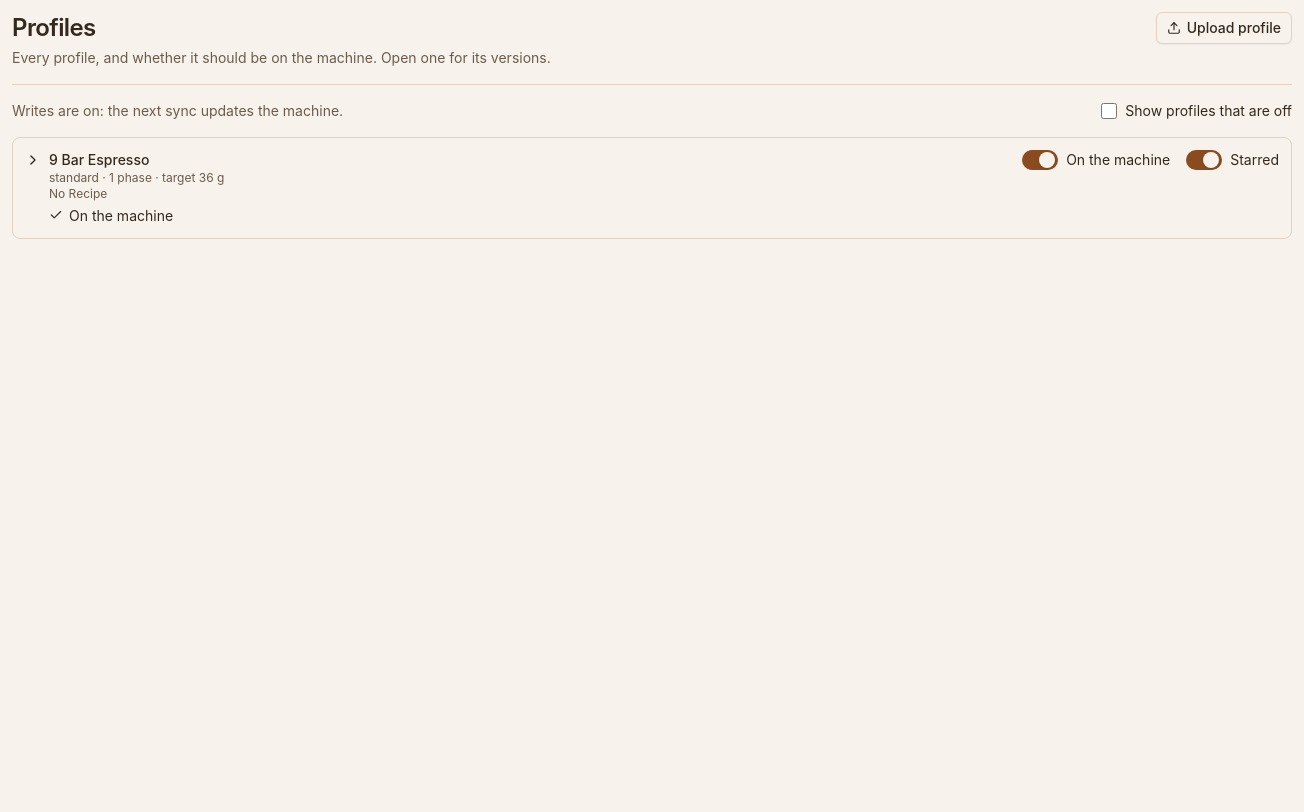
it: Rename, in an open profile › shows the server's sentence under the field and keeps what was typed
This screenshot has width=1304, height=812.
Click the button with test id "profile-toggle" at (99, 160), box [25,150,1006,226]
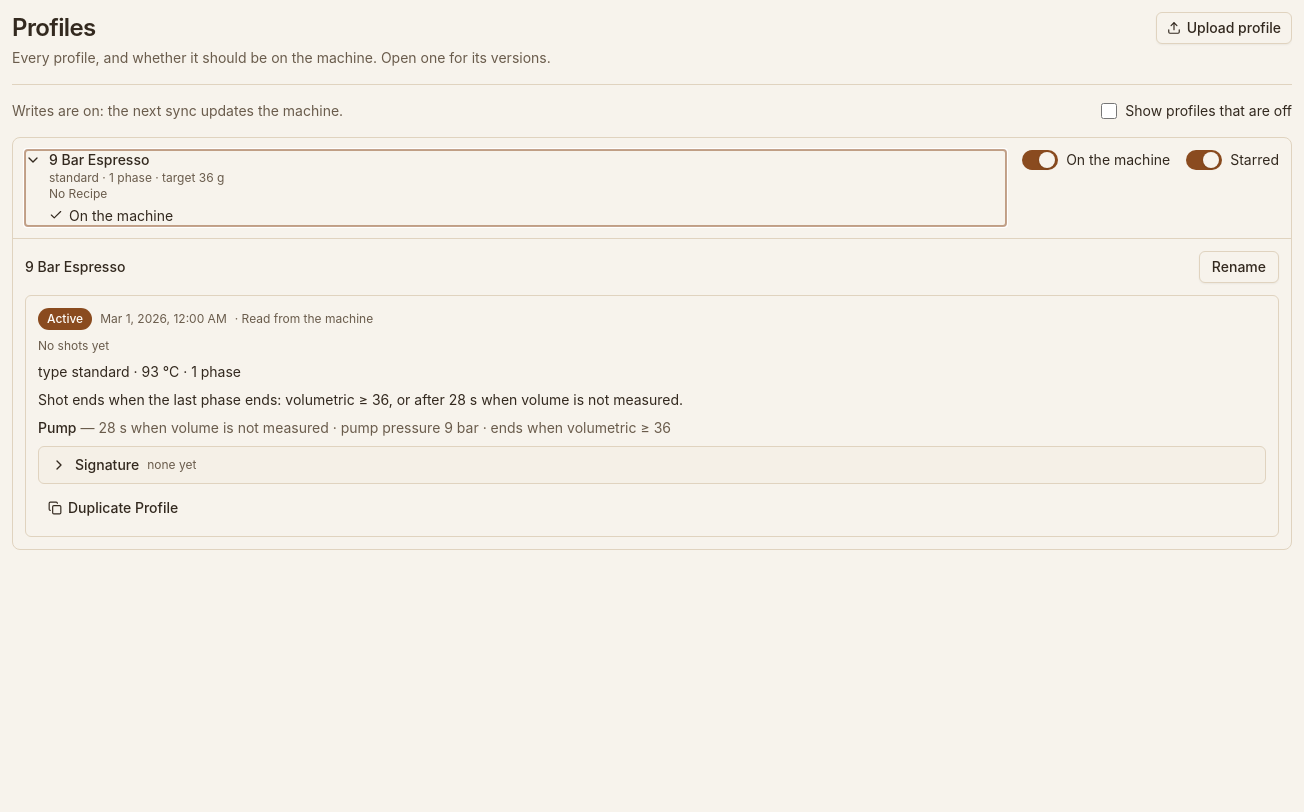
Click the button with test id "rename-open" at (1239, 267), box [1199,251,1279,283]
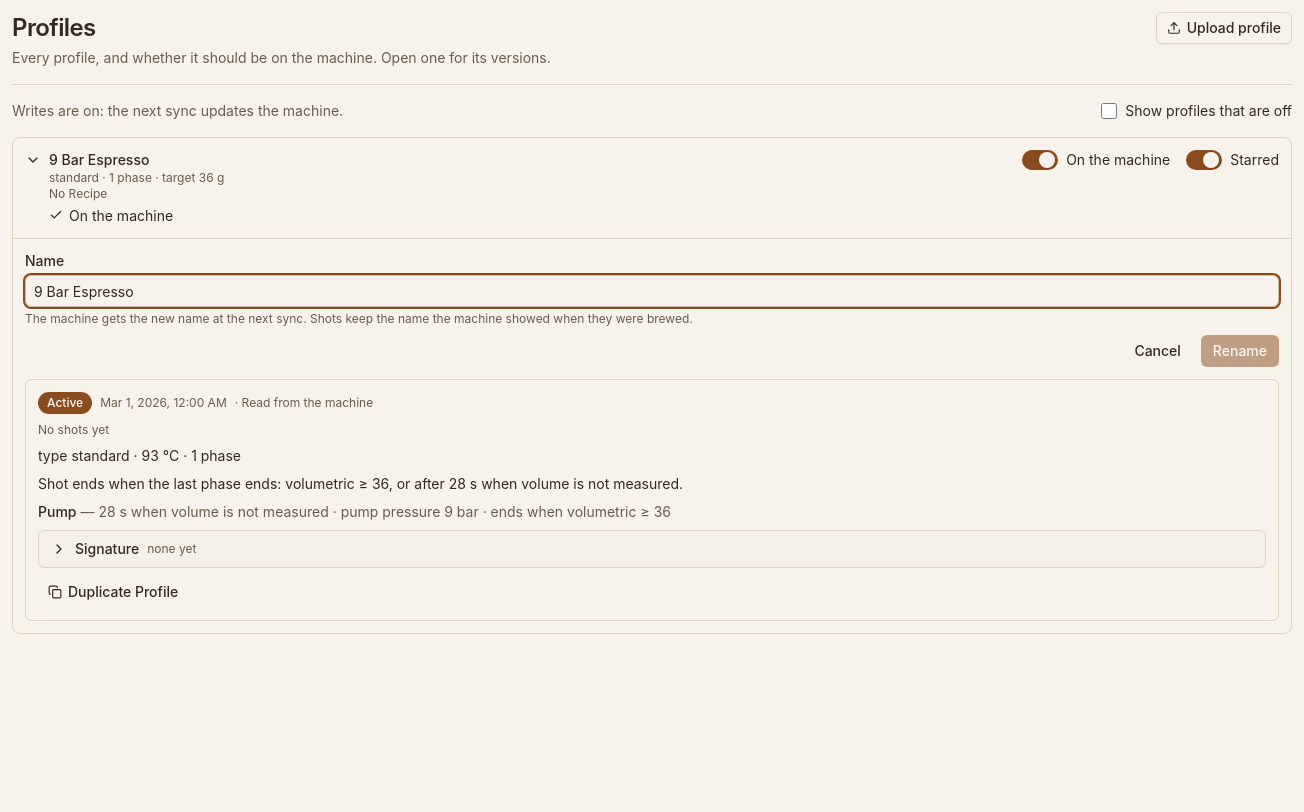
Replace the text in the field labelled "Name" with "espresso" at (652, 291), box [25,275,1279,307]
Then press Enter
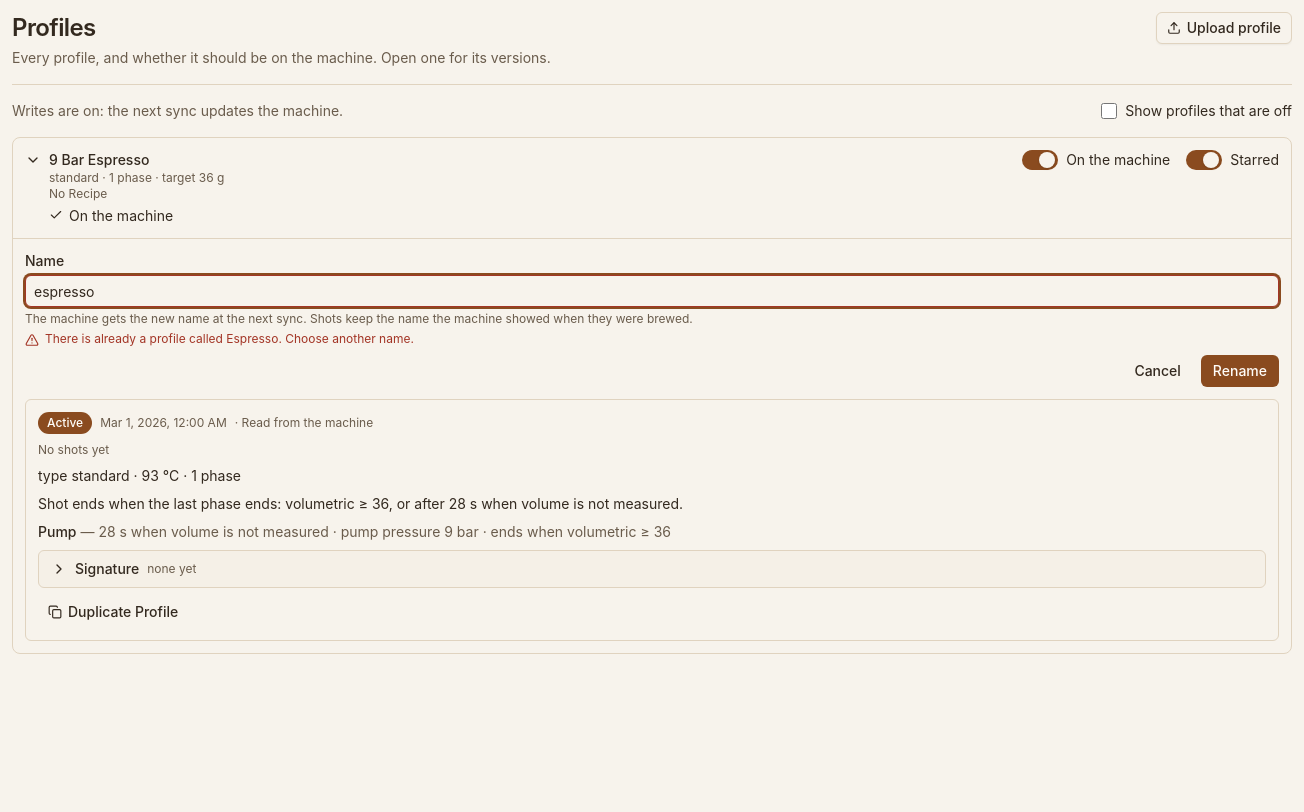
Expected: the message with test id "rename-problem" reads "There is already a profile called Espresso. Choose another name.", [45,331,414,346]
Type "2" into the field labelled "Name" at (652, 291), box [25,275,1279,307]
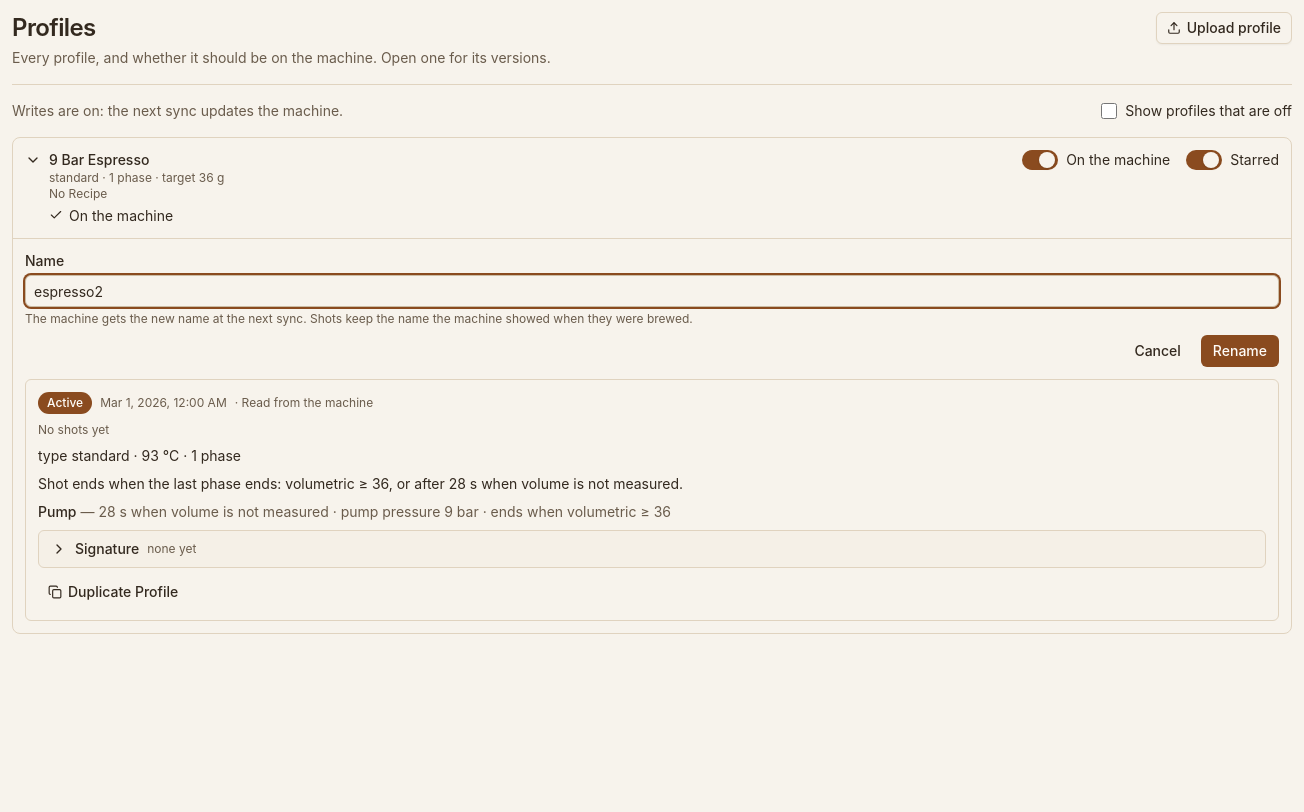
Expected: the message with test id "rename-problem" is gone
